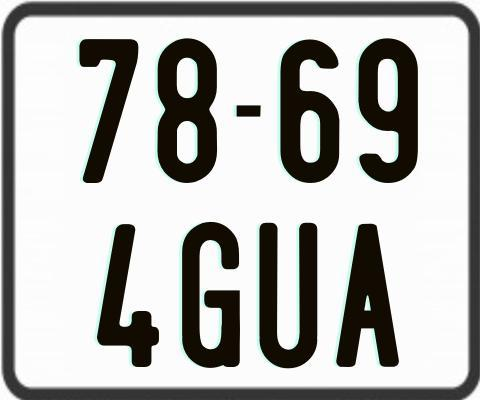4: (96, 222, 164, 368)
6: (278, 40, 338, 189)
7: (77, 37, 140, 183)
8: (156, 35, 220, 186)
9: (358, 37, 424, 182)
A: (335, 221, 404, 368)
G: (181, 220, 245, 372)
U: (259, 222, 320, 368)
